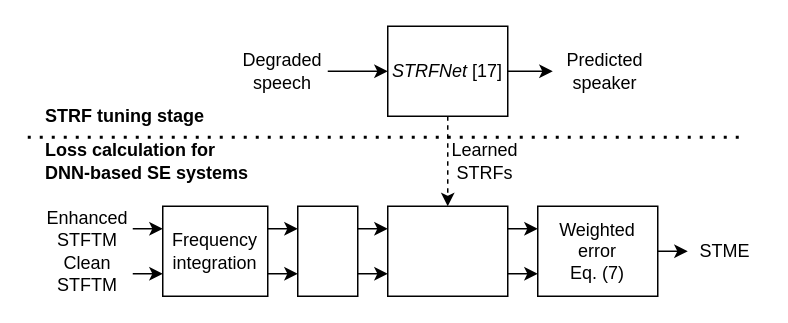
The diagram is 788 pixels wide and 323 high, and some of its shapes have lost their labels. Here are the shapes that lost their labels. From the top down, the centre of each, then its label:
At (327,250): "log(.)".
At (447,250): "Cross-correlation".
